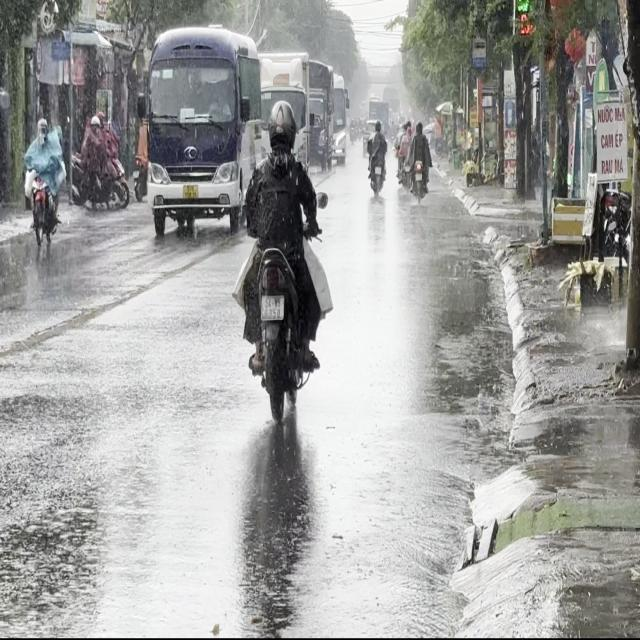helmet: (266, 98, 296, 150), (36, 118, 49, 141)
licenseplate: (231, 96, 331, 423), (24, 117, 70, 249)
nohelmet: (261, 294, 283, 319)
